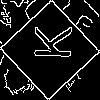K: (25, 25, 72, 60)
